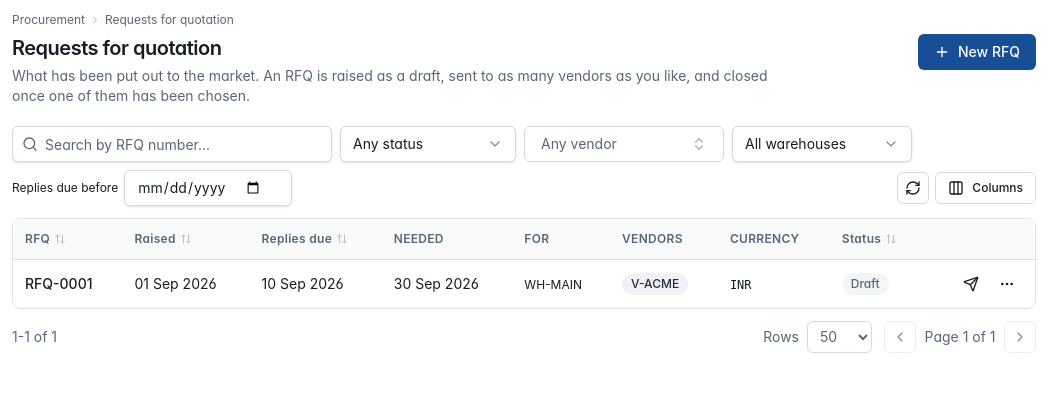
the state machine decides which commands exist › lets a draft be sent, edited or cancelled - and never closed
This screenshot has width=1048, height=399.
expect the button named "Send RFQ-0001 to its vendors" is shown: met, box [955,268,987,300]
Click the button named "More actions for RFQ-0001" at [1007, 284], box [991,268,1023,300]
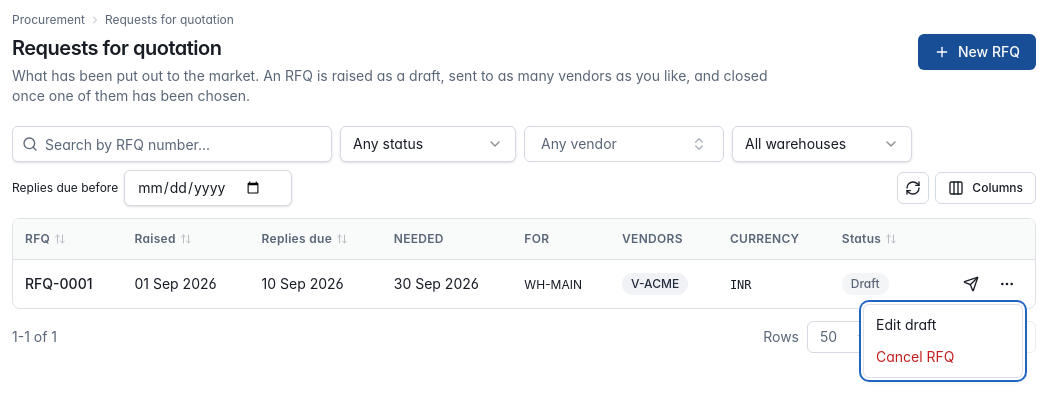
expect the menu is shown: met, box [863,304,1023,378]
expect the menu item "Edit draft" is shown: met, box [876,316,936,333]
expect the menu item "Cancel RFQ" is shown: met, box [876,348,954,365]
